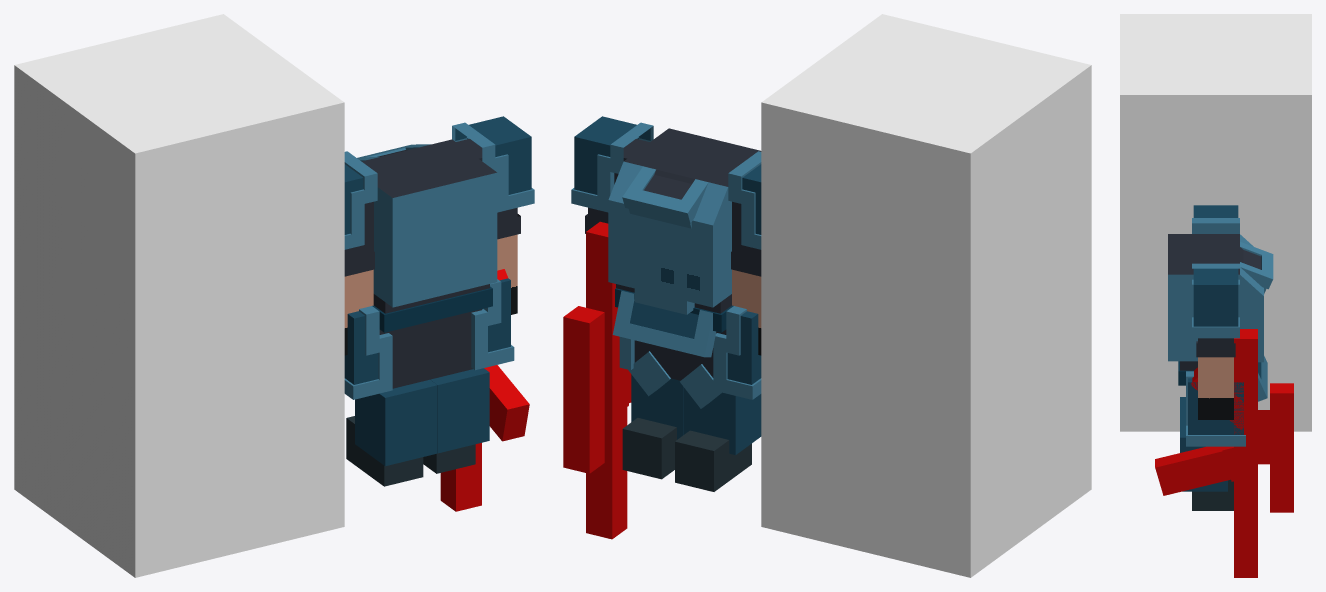
The model's file is soldier_1_2.gltf.
The picture shows the model from 3 angles, left to right: view 1: azimuth 30°, elevation 25°; view 2: azimuth 150°, elevation 25°; view 3: azimuth 270°, elevation 25°; orthographic projection. The views are drawn at different scales.
Visible parts, largest first — view 1: Size LIMIT, cube (×15), cuboid (×3), padding (×4); view 2: Size LIMIT, cube (×18), cuboid (×5), padding (×2); view 3: Size LIMIT, cube (×14), cuboid (×5), padding (×2).
Boxes of the visible parts, <box> form: Size LIMIT: <box>14,14,344,577</box>; cube (×15): <box>344,116,531,511</box>; cuboid (×3): <box>344,122,534,307</box>; padding (×4): <box>344,278,514,399</box>; Size LIMIT: <box>761,14,1091,577</box>; cube (×18): <box>563,116,761,539</box>; cuboid (×5): <box>571,122,761,357</box>; padding (×2): <box>713,306,761,399</box>; Size LIMIT: <box>1120,14,1311,431</box>; cube (×14): <box>1155,205,1293,577</box>; cuboid (×5): <box>1168,218,1273,401</box>; padding (×2): <box>1186,371,1245,446</box>.
Size of the model in its own units: 2.12 by 2.31 by 1.
Materials: 3 (2 with a texture image).
